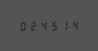five: (48, 20, 57, 30)
four: (38, 20, 47, 31), (68, 19, 77, 30)
one: (58, 19, 67, 30)
two: (27, 20, 36, 31)
zero: (17, 20, 26, 31)
